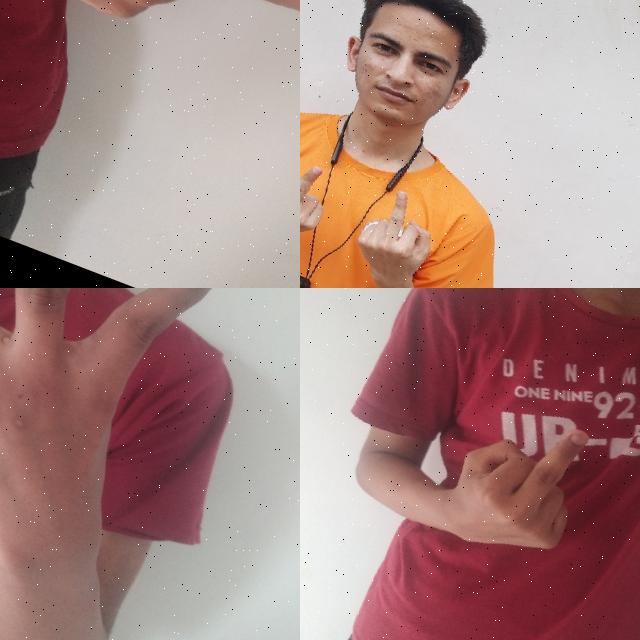Five Fathers: (0, 0, 300, 137)
Middle Finger: (404, 377, 616, 590), (340, 176, 453, 288), (300, 138, 346, 260)
Reversed Victory: (0, 288, 243, 569)
